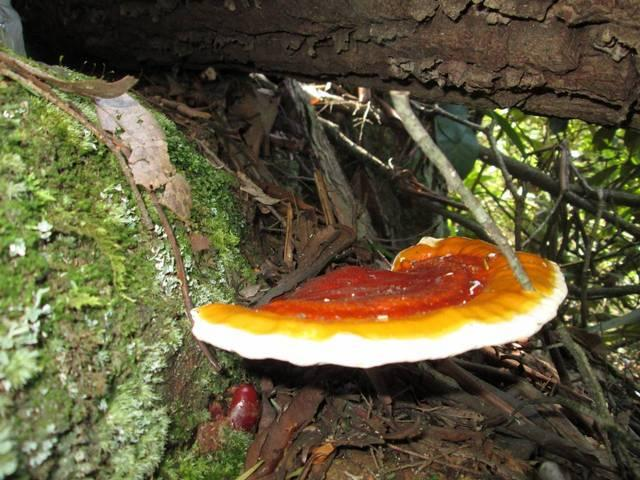poisonous_mushroom: (188, 234, 569, 371)
